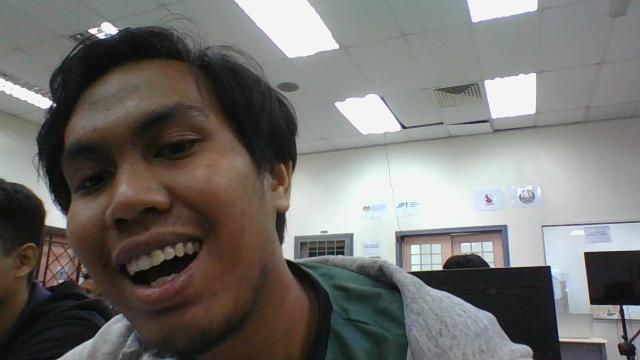senang: (63, 57, 288, 348)
